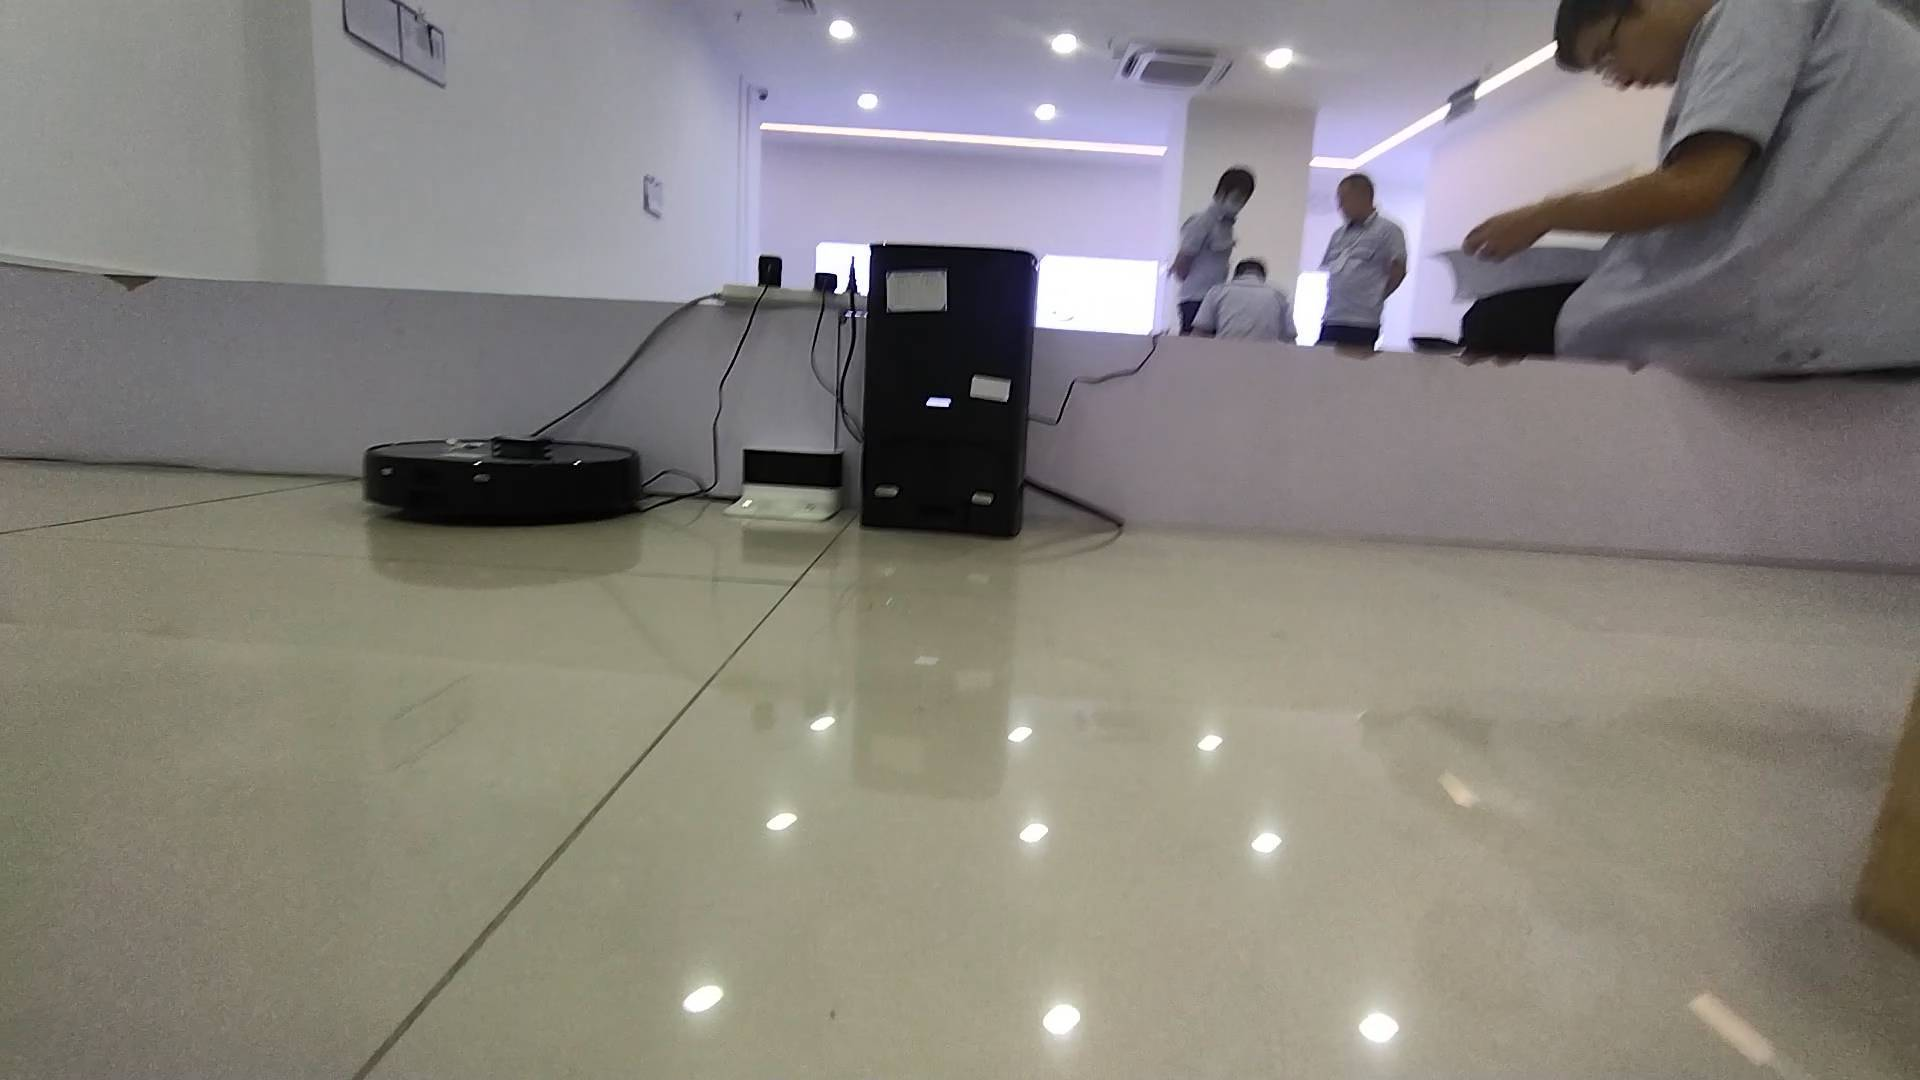dust collecting barrel: (858, 245, 1036, 541)
recharge seat: (724, 446, 845, 520)
